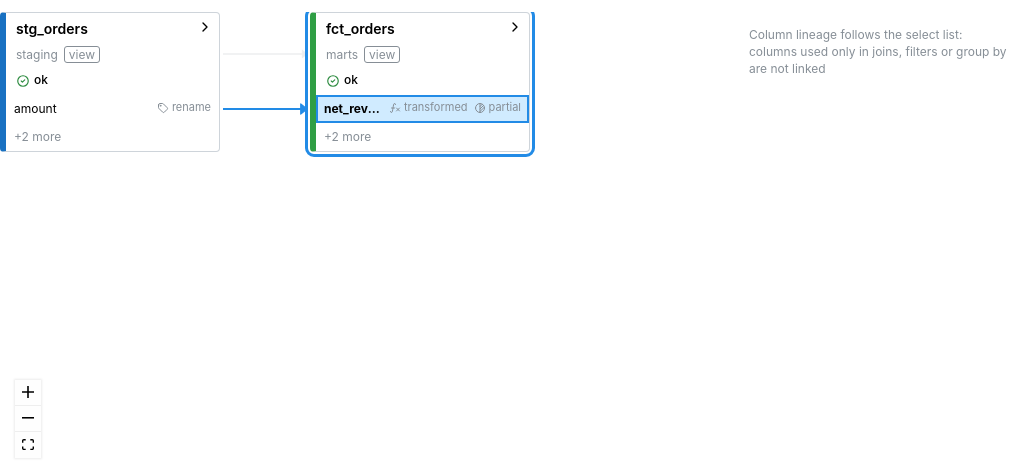
it: GraphNode › +k more shows the rest of the columns, the related ones still marked
Check: the button "amount rename" is shown, box [6,95,219,123]
Click the 1st button "+2 more".
click(112, 137)  # box [6,123,219,151]
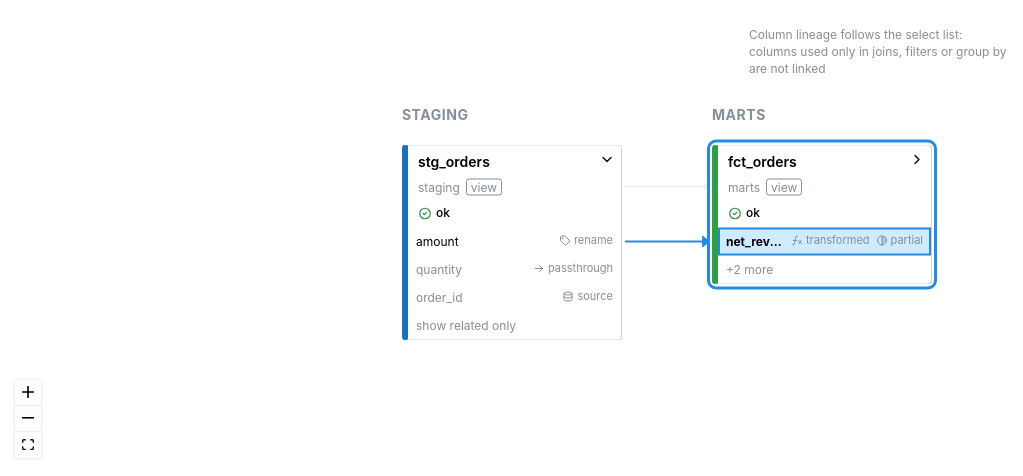
Check: the number of buttons "amount rename" is 3, box [408,228,621,256]; [408,256,621,284]; [408,284,621,312]
Check: the button with aria-label "Show related only: hide the other 2 columns of stg_orders" is expanded, box [408,312,621,340]
